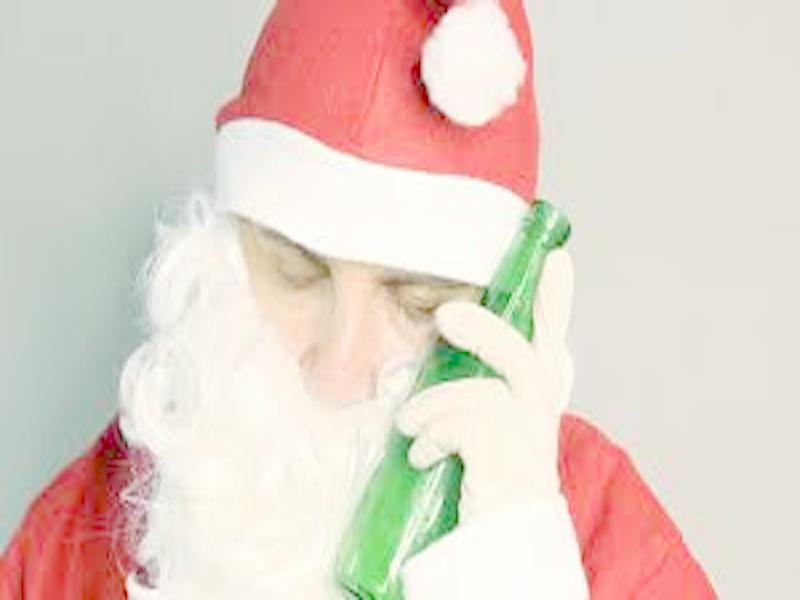Beer: (339, 204, 573, 600)
